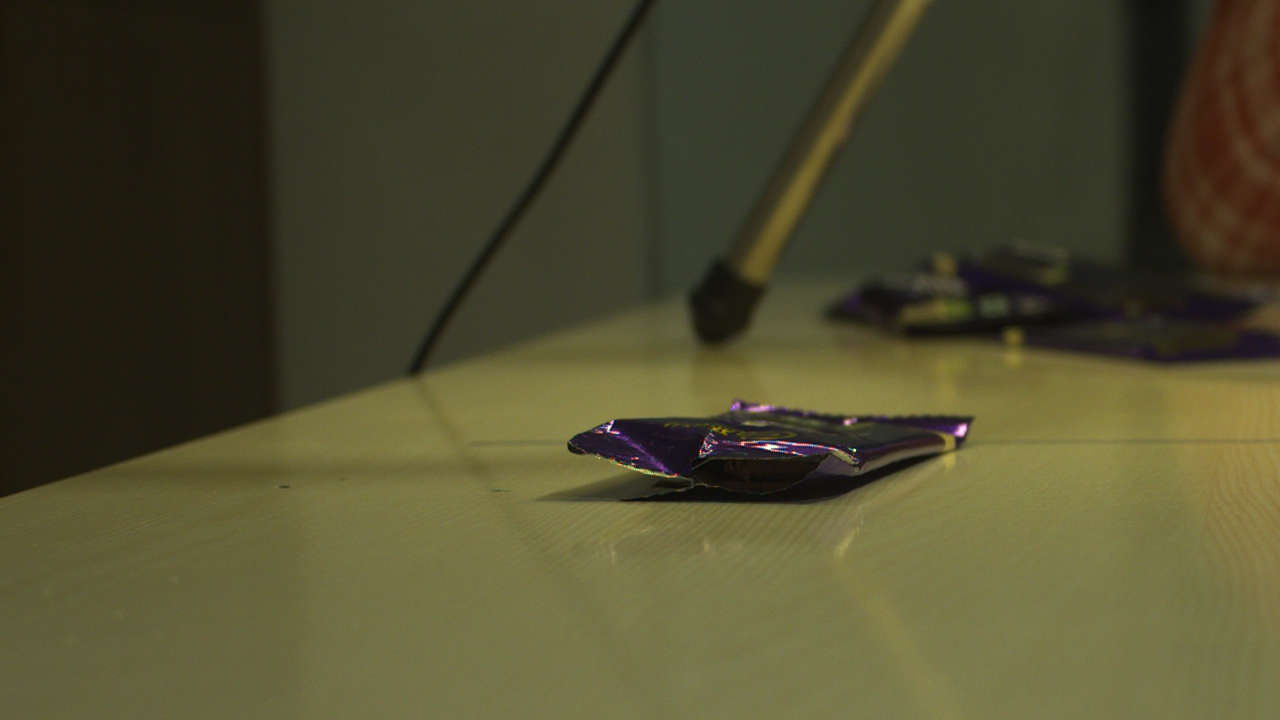Good: (595, 430, 851, 502)
